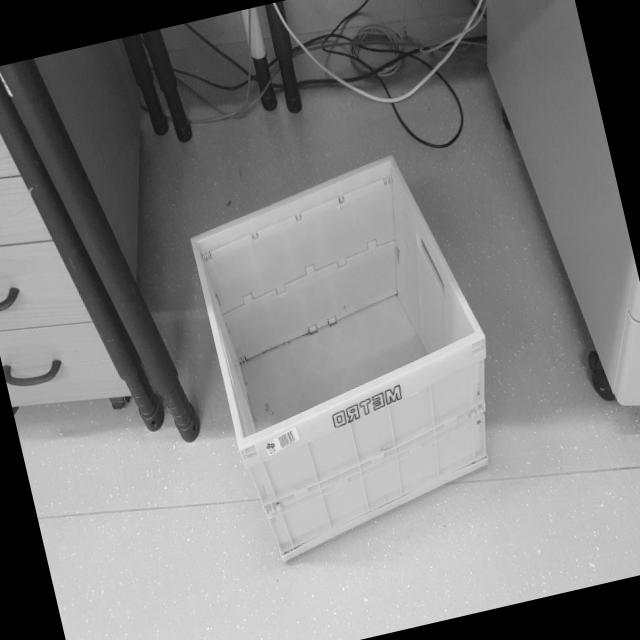box: (169, 133, 542, 572)
